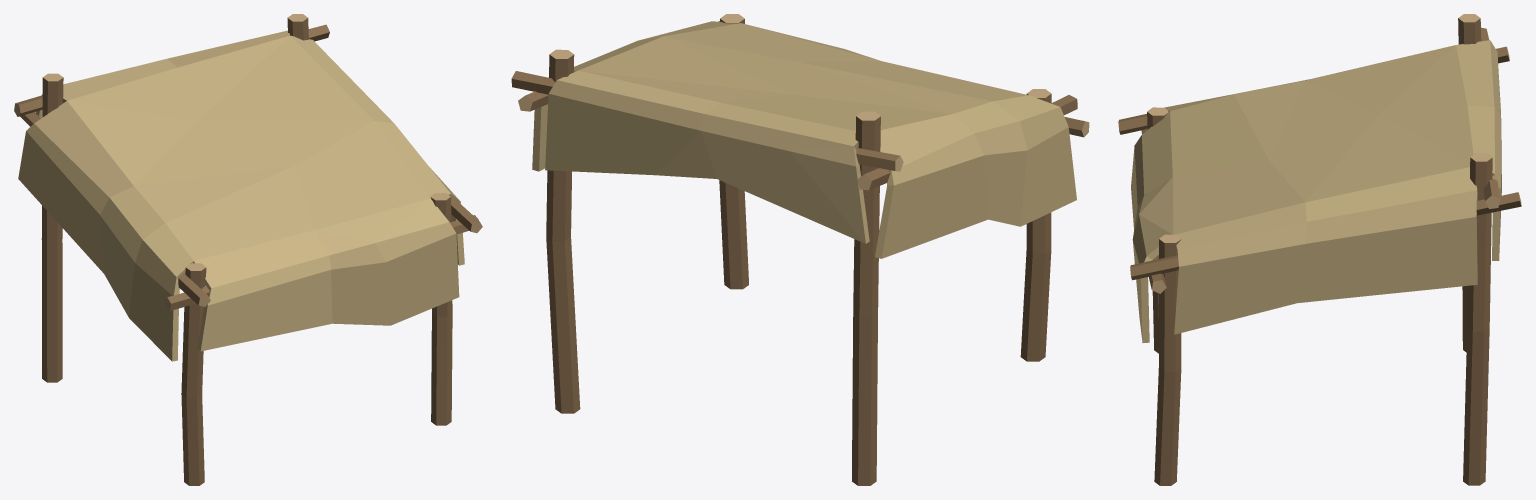
Rendered from rpgpp_ag_awning_standing_01c.fbx.
The picture shows the model from 3 angles, left to right: view 1: azimuth 30°, elevation 25°; view 2: azimuth 150°, elevation 25°; view 3: azimuth 270°, elevation 25°; orthographic projection. The views are drawn at different scales.
Parts seen in each view (by area): view 1: rpgpp_ag_awning_standing_01c; view 2: rpgpp_ag_awning_standing_01c; view 3: rpgpp_ag_awning_standing_01c.
Boxes of the visible parts, x1,y1,x2,y2 form: rpgpp_ag_awning_standing_01c: (14, 14, 482, 485); rpgpp_ag_awning_standing_01c: (511, 14, 1089, 485); rpgpp_ag_awning_standing_01c: (1118, 14, 1521, 485).
Size of the model in its own units: 3.32 by 3.03 by 3.35.
